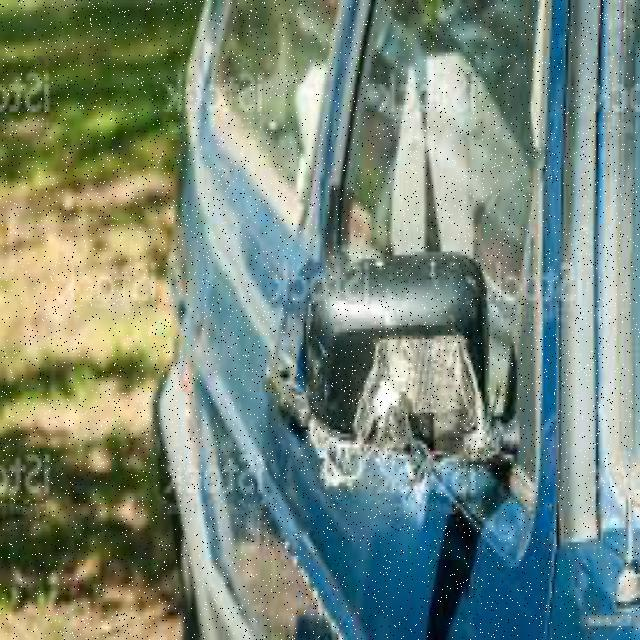Sidemirror-Damage: (285, 241, 500, 496)
